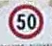limite 50: (7, 4, 43, 38)
